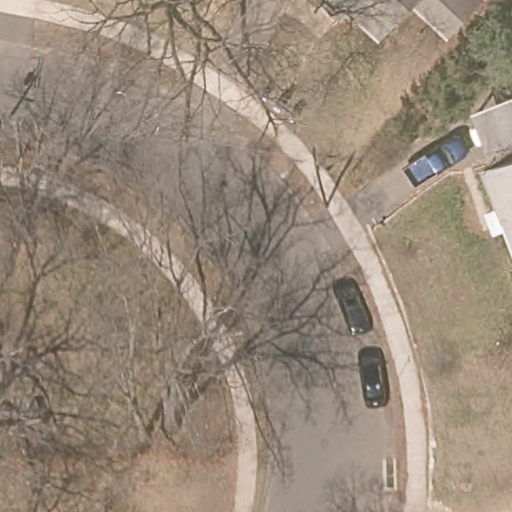DT: (308, 145, 330, 208)
